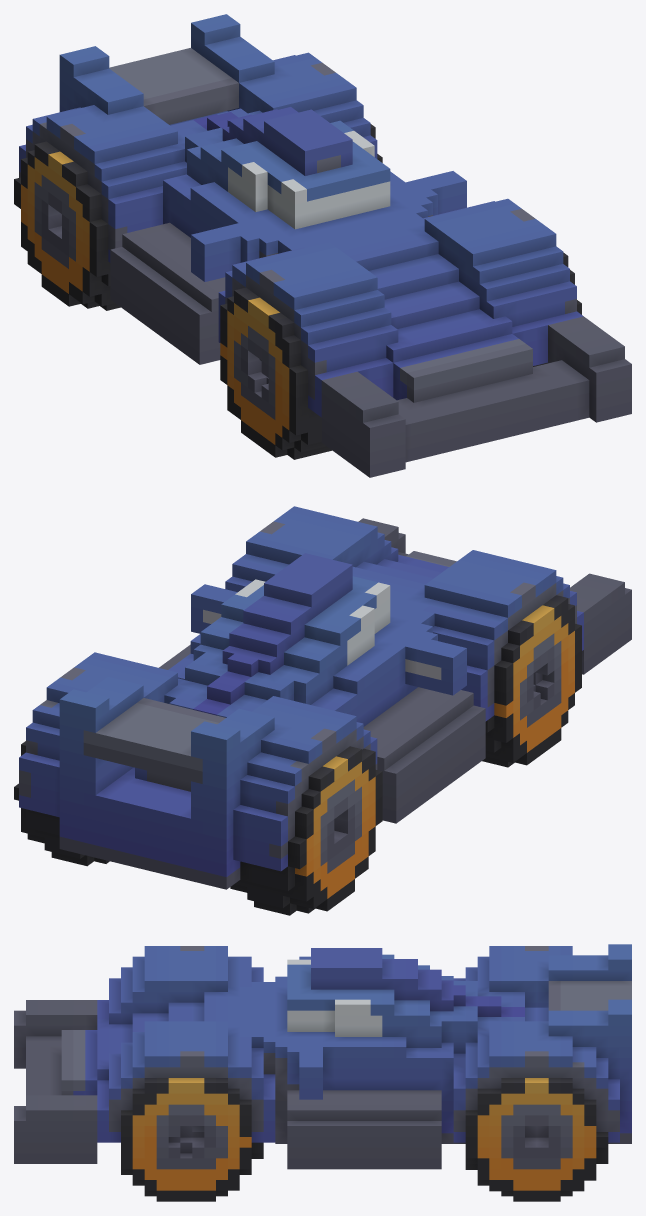
Rendered from race_car_future.glb.
3 views of the same model, one above another, from view 1: azimuth 30°, elevation 25°; view 2: azimuth 150°, elevation 25°; view 3: azimuth 270°, elevation 25° (orthographic). The views are drawn at different scales.
Visible parts, largest first — view 1: voxels; view 2: voxels; view 3: voxels.
Part boxes in pixels (x1,y1,x2,y2): voxels: [14, 14, 631, 477]; voxels: [14, 506, 631, 915]; voxels: [14, 944, 631, 1201].
Size of the model in its own units: 1.25 by 0.8846 by 2.71.
